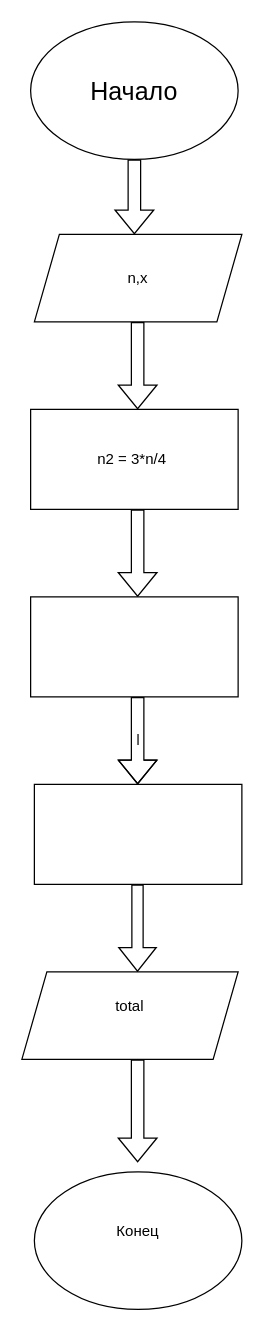
The diagram is 264 pixels wide and 1331 high, and some of its shapes have lost their labels. Here are the shapes that lost their labels. From the top down, the centre of each, then its label:
point (133, 646): n1 = n/4
point (137, 833): total = n2*x+n1*2*x
